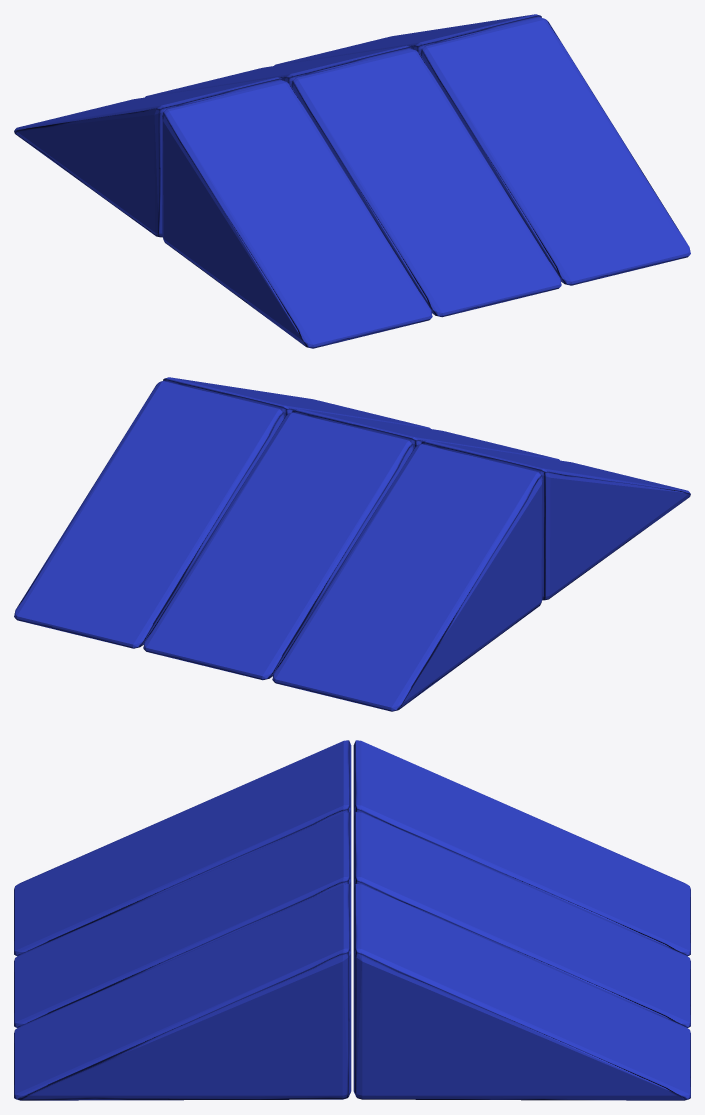
Rendered from PLF0110115.fbx.
The picture shows the model from 3 angles, top to bottom: view 1: azimuth 30°, elevation 25°; view 2: azimuth 150°, elevation 25°; view 3: azimuth 270°, elevation 25°; orthographic projection. The views are drawn at different scales.
Visible parts, largest first — view 1: smPLF0110115; view 2: smPLF0110115; view 3: smPLF0110115.
Boxes of the visible parts, <box> form: smPLF0110115: <box>14,14,690,348</box>; smPLF0110115: <box>14,377,690,711</box>; smPLF0110115: <box>14,740,690,1100</box>.
Bounding box in the file's own units: 483 × 158 × 642.
1 material, 1 textured.
